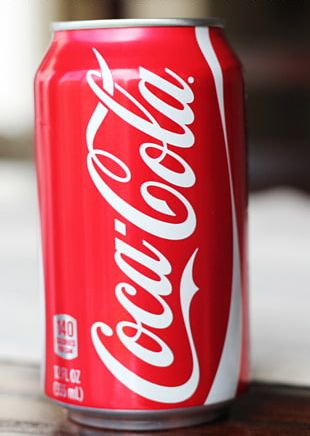coke: (33, 19, 252, 421)
